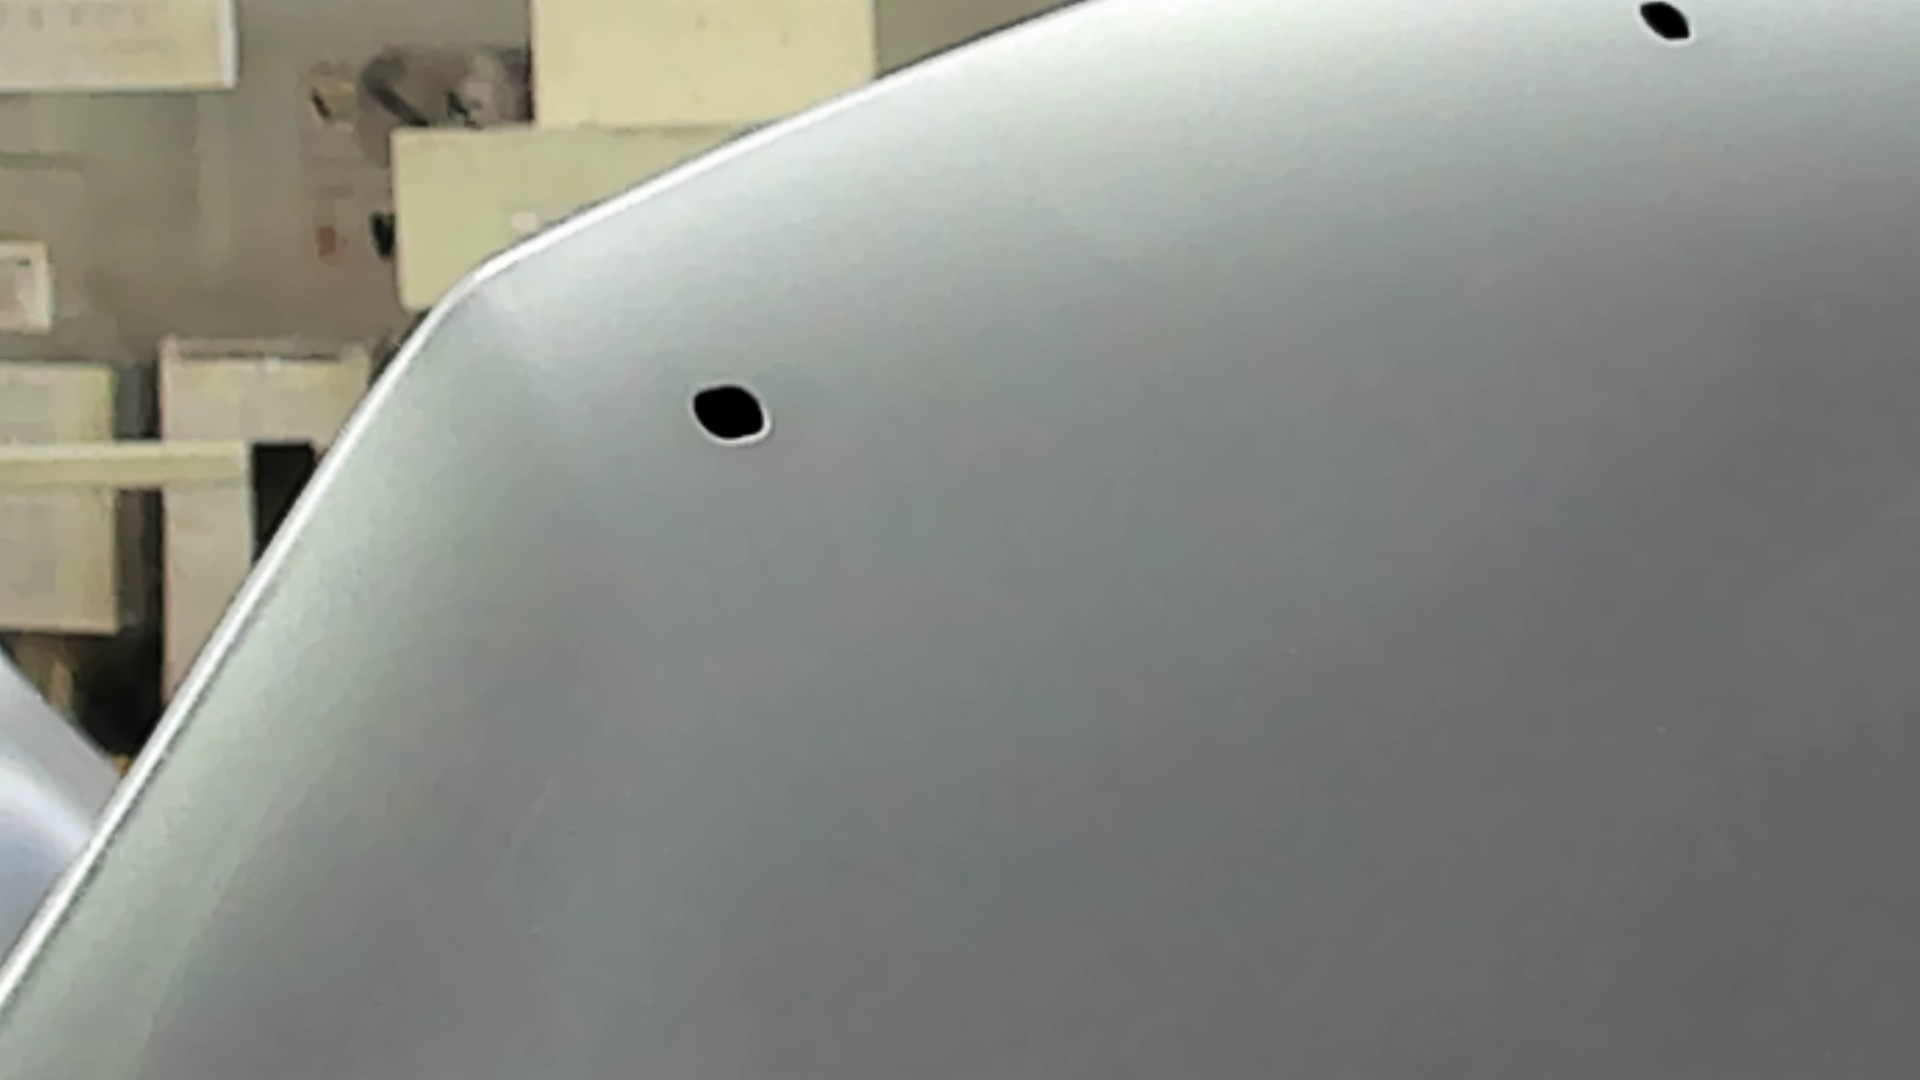amorfo: (682, 376, 774, 454), (1634, 1, 1696, 50)
